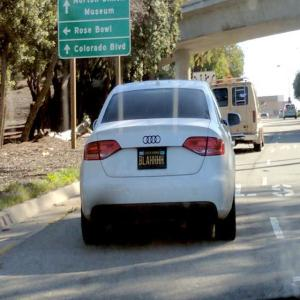Plate: (137, 147, 167, 170)
